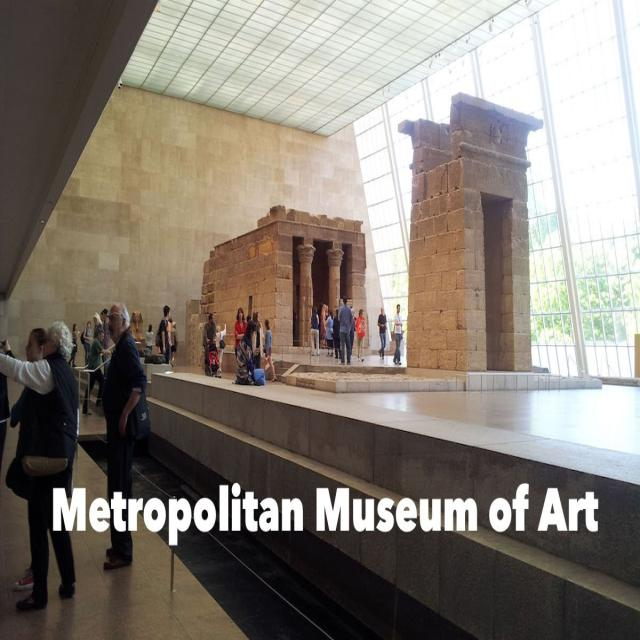body: (0, 317, 83, 615), (99, 300, 152, 578), (9, 326, 49, 592), (81, 323, 114, 418), (0, 334, 16, 484), (234, 320, 266, 387), (336, 292, 354, 363), (154, 304, 171, 365), (262, 318, 278, 382), (389, 303, 405, 366), (202, 313, 217, 377), (251, 309, 265, 369), (233, 306, 248, 360), (354, 307, 367, 362), (80, 319, 94, 367), (93, 311, 105, 367), (67, 322, 81, 368), (331, 307, 343, 360), (100, 310, 109, 380), (215, 322, 227, 374), (376, 304, 387, 360), (309, 304, 320, 358), (102, 310, 110, 380), (324, 309, 334, 357), (348, 310, 358, 353), (130, 308, 144, 337), (170, 320, 178, 368), (319, 302, 327, 348), (291, 298, 298, 346), (145, 322, 154, 357), (323, 304, 330, 344), (168, 315, 174, 360), (245, 314, 252, 335), (210, 351, 217, 367)
